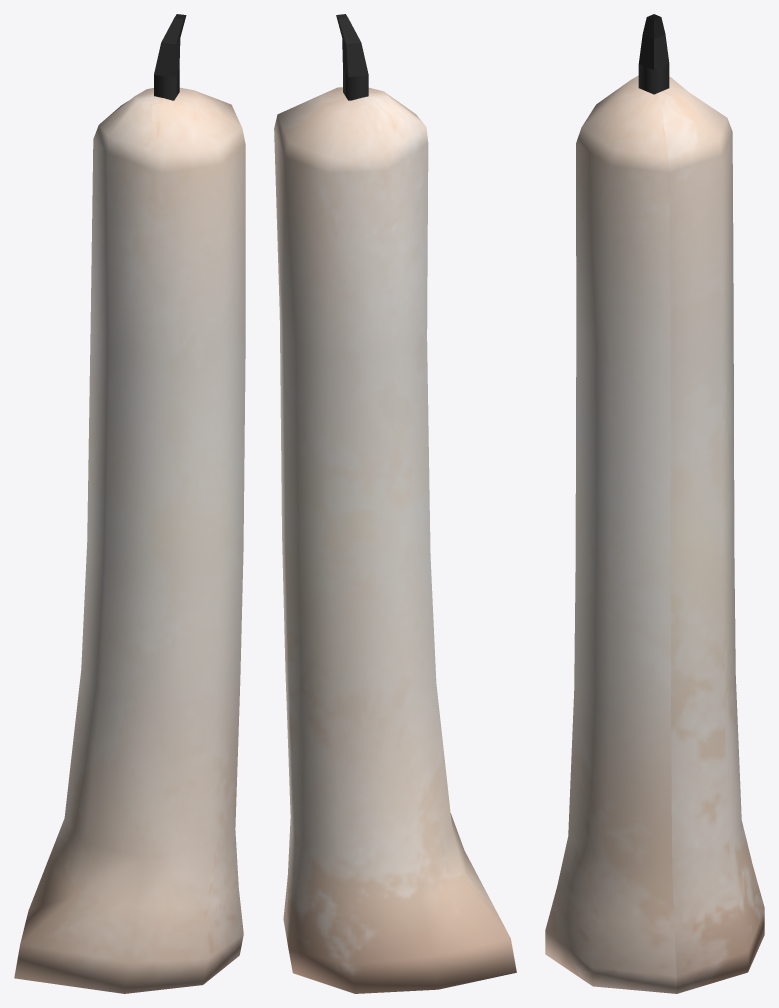
Rendered from Bougie_B.FBX.
The picture shows the model from 3 angles, left to right: view 1: azimuth 30°, elevation 25°; view 2: azimuth 150°, elevation 25°; view 3: azimuth 270°, elevation 25°; orthographic projection. The views are drawn at different scales.
Parts seen in each view (by area): view 1: Z3_Candles_3; view 2: Z3_Candles_3; view 3: Z3_Candles_3.
Boxes of the visible parts, left/top/right/bottom form: Z3_Candles_3: left=14, top=14, right=245, bottom=993; Z3_Candles_3: left=274, top=14, right=516, bottom=993; Z3_Candles_3: left=545, top=14, right=764, bottom=993.
Bounding box in the file's own units: 15.84 × 60.56 × 12.63.
